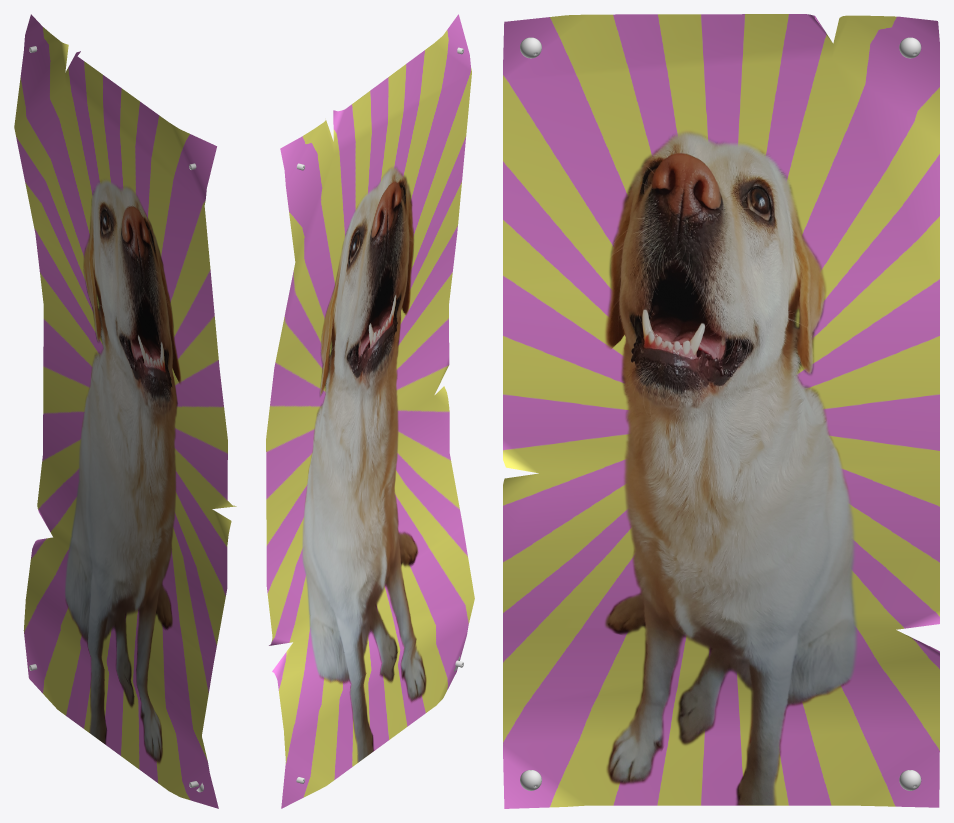
The model's file is Edda_MA.fbx.
The picture shows the model from 3 angles, left to right: view 1: azimuth 30°, elevation 25°; view 2: azimuth 150°, elevation 25°; view 3: azimuth 270°, elevation 25°; orthographic projection. The views are drawn at different scales.
Visible parts, largest first — view 1: Sphere.001; view 2: Sphere.001; view 3: Sphere.001.
Boxes of the visible parts, box(x1,y1,x2,y2) form: Sphere.001: box(14, 14, 236, 808); Sphere.001: box(266, 14, 474, 808); Sphere.001: box(503, 14, 939, 808).
Size of the model in its own units: 12.69 by 200 by 100.
2 materials, 1 textured.
